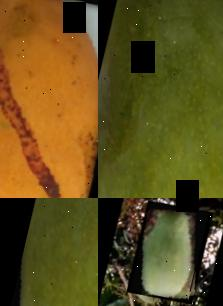Ripe: (0, 0, 98, 198)
Unripe: (98, 0, 223, 198), (0, 198, 98, 306), (130, 200, 210, 304)
